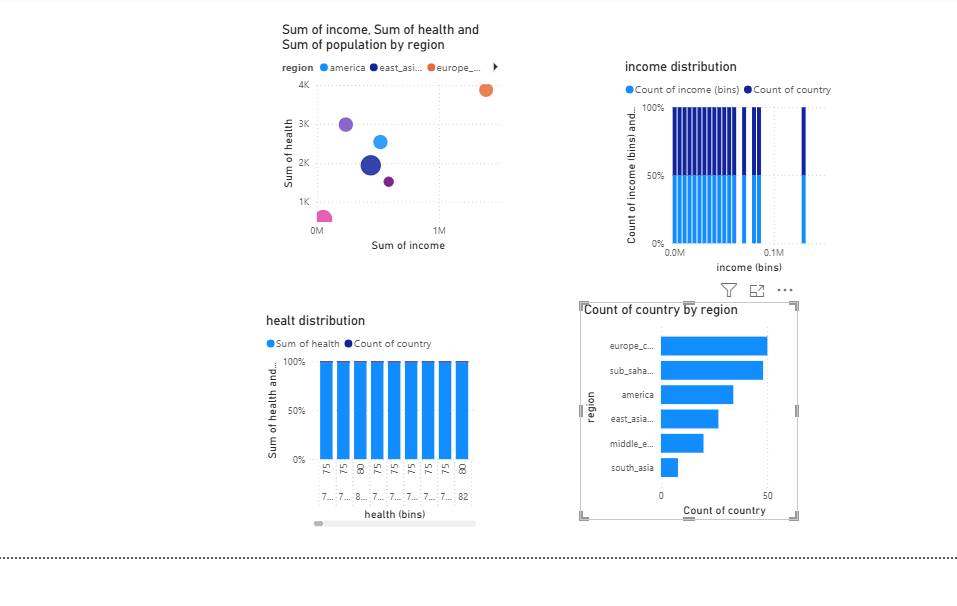

The dashboard page shown, as its layout file describes it:
{"tool":"powerbi","page":{"name":"Page 1","canvas":[1280,720],"ordinal":0},"visuals":[{"type":"clusteredBarChart","fields":{"Category":["final_cleaned_dataset.region"],"Y":["CountNonNull(final_cleaned_dataset.country)"]},"box":[789.1,392,280.2,280.2],"z":0},{"type":"scatterChart","fields":{"X":["Sum(final_cleaned_dataset.income)"],"Y":["Sum(final_cleaned_dataset.health)"],"Size":["Sum(final_cleaned_dataset.population)"],"Series":["final_cleaned_dataset.region"]},"box":[401,32.1,299.4,299.4],"z":1},{"type":"hundredPercentStackedColumnChart","title":"income distribution","fields":{"Y":["CountNonNull(final_cleaned_dataset.income (bins))","CountNonNull(final_cleaned_dataset.country)"],"Category":["final_cleaned_dataset.income (bins)"]},"box":[841.8,79.7,280.2,280.2],"z":2},{"type":"hundredPercentStackedColumnChart","title":"healt distribution","fields":{"Category":["final_cleaned_dataset.health","final_cleaned_dataset.health (bins)"],"Y":["Sum(final_cleaned_dataset.health)","CountNonNull(final_cleaned_dataset.country)"]},"box":[380.4,406.1,280.2,280.2],"z":3}]}

Visuals, with their boxes on the page's 1280x720 design canvas (x1, y1, x2, y2). These are canvas units, not pixel positions in the 957x606 screenshot, which may show the page scaled, cropped or inside an application window:
clusteredBarChart - final_cleaned_dataset.region x CountNonNull(final_cleaned_dataset.country): <region>789, 392, 1069, 672</region>
scatterChart - Sum(final_cleaned_dataset.income) x Sum(final_cleaned_dataset.health): <region>401, 32, 700, 332</region>
"income distribution" hundredPercentStackedColumnChart: <region>842, 80, 1122, 360</region>
"healt distribution" hundredPercentStackedColumnChart: <region>380, 406, 661, 686</region>
